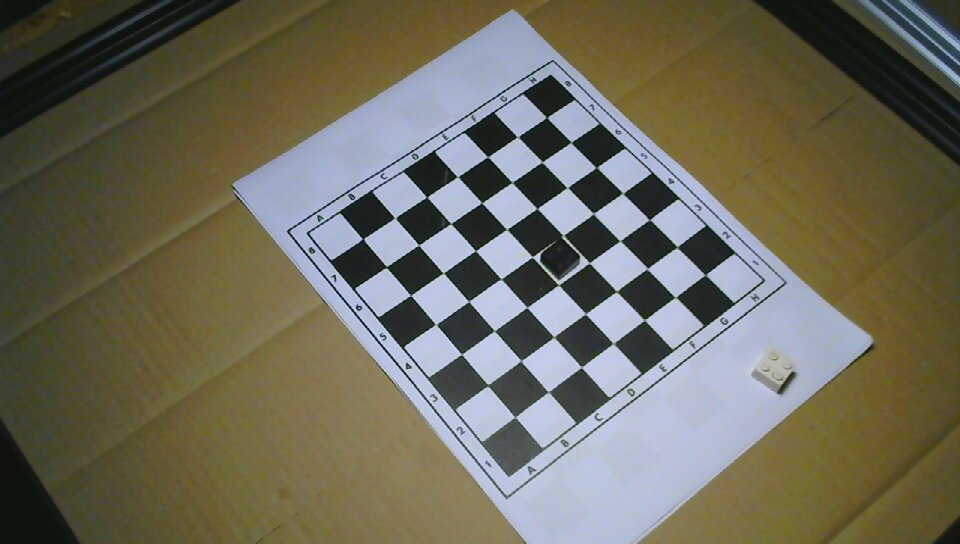bp: (541, 239, 580, 279)
wp: (750, 345, 797, 396)
